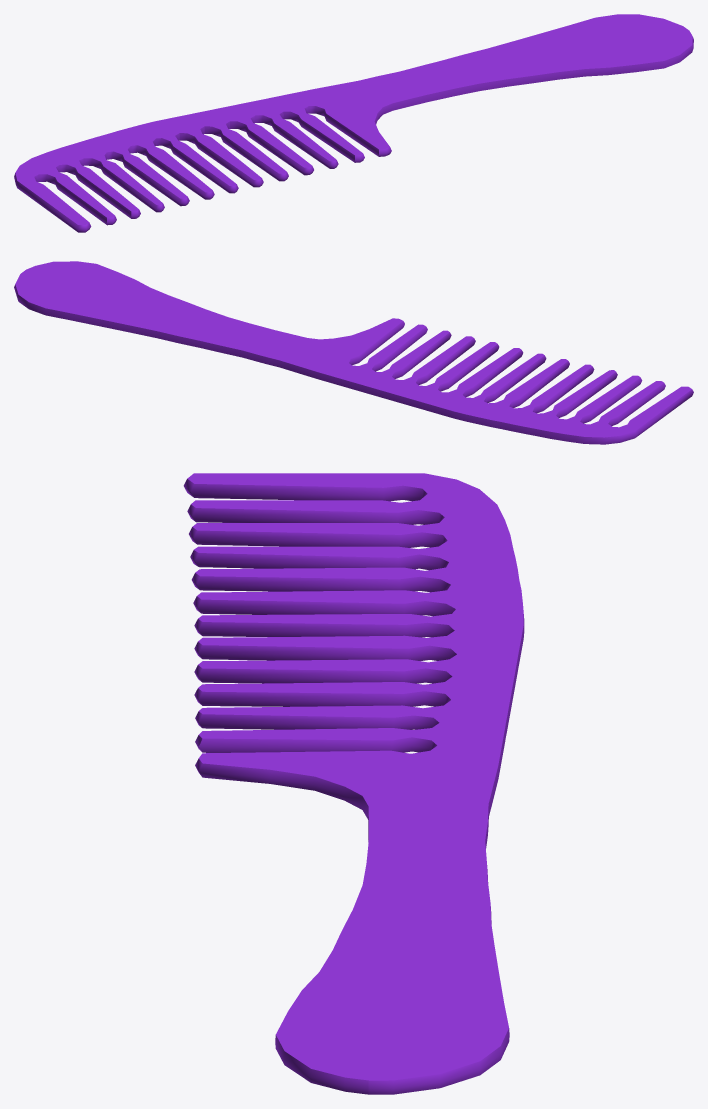
File: Comb.fbx
The picture shows the model from 3 angles, top to bottom: view 1: azimuth 30°, elevation 25°; view 2: azimuth 150°, elevation 25°; view 3: azimuth 270°, elevation 25°; orthographic projection. The views are drawn at different scales.
Parts seen in each view (by area): view 1: Comb; view 2: Comb; view 3: Comb.
Part boxes in pixels (x1,y1,x2,y2): Comb: (14,14,693,232); Comb: (14,261,693,444); Comb: (183,473,524,1094).
Size of the model in its own units: 0.9715 by 0.0105 by 0.2294.
